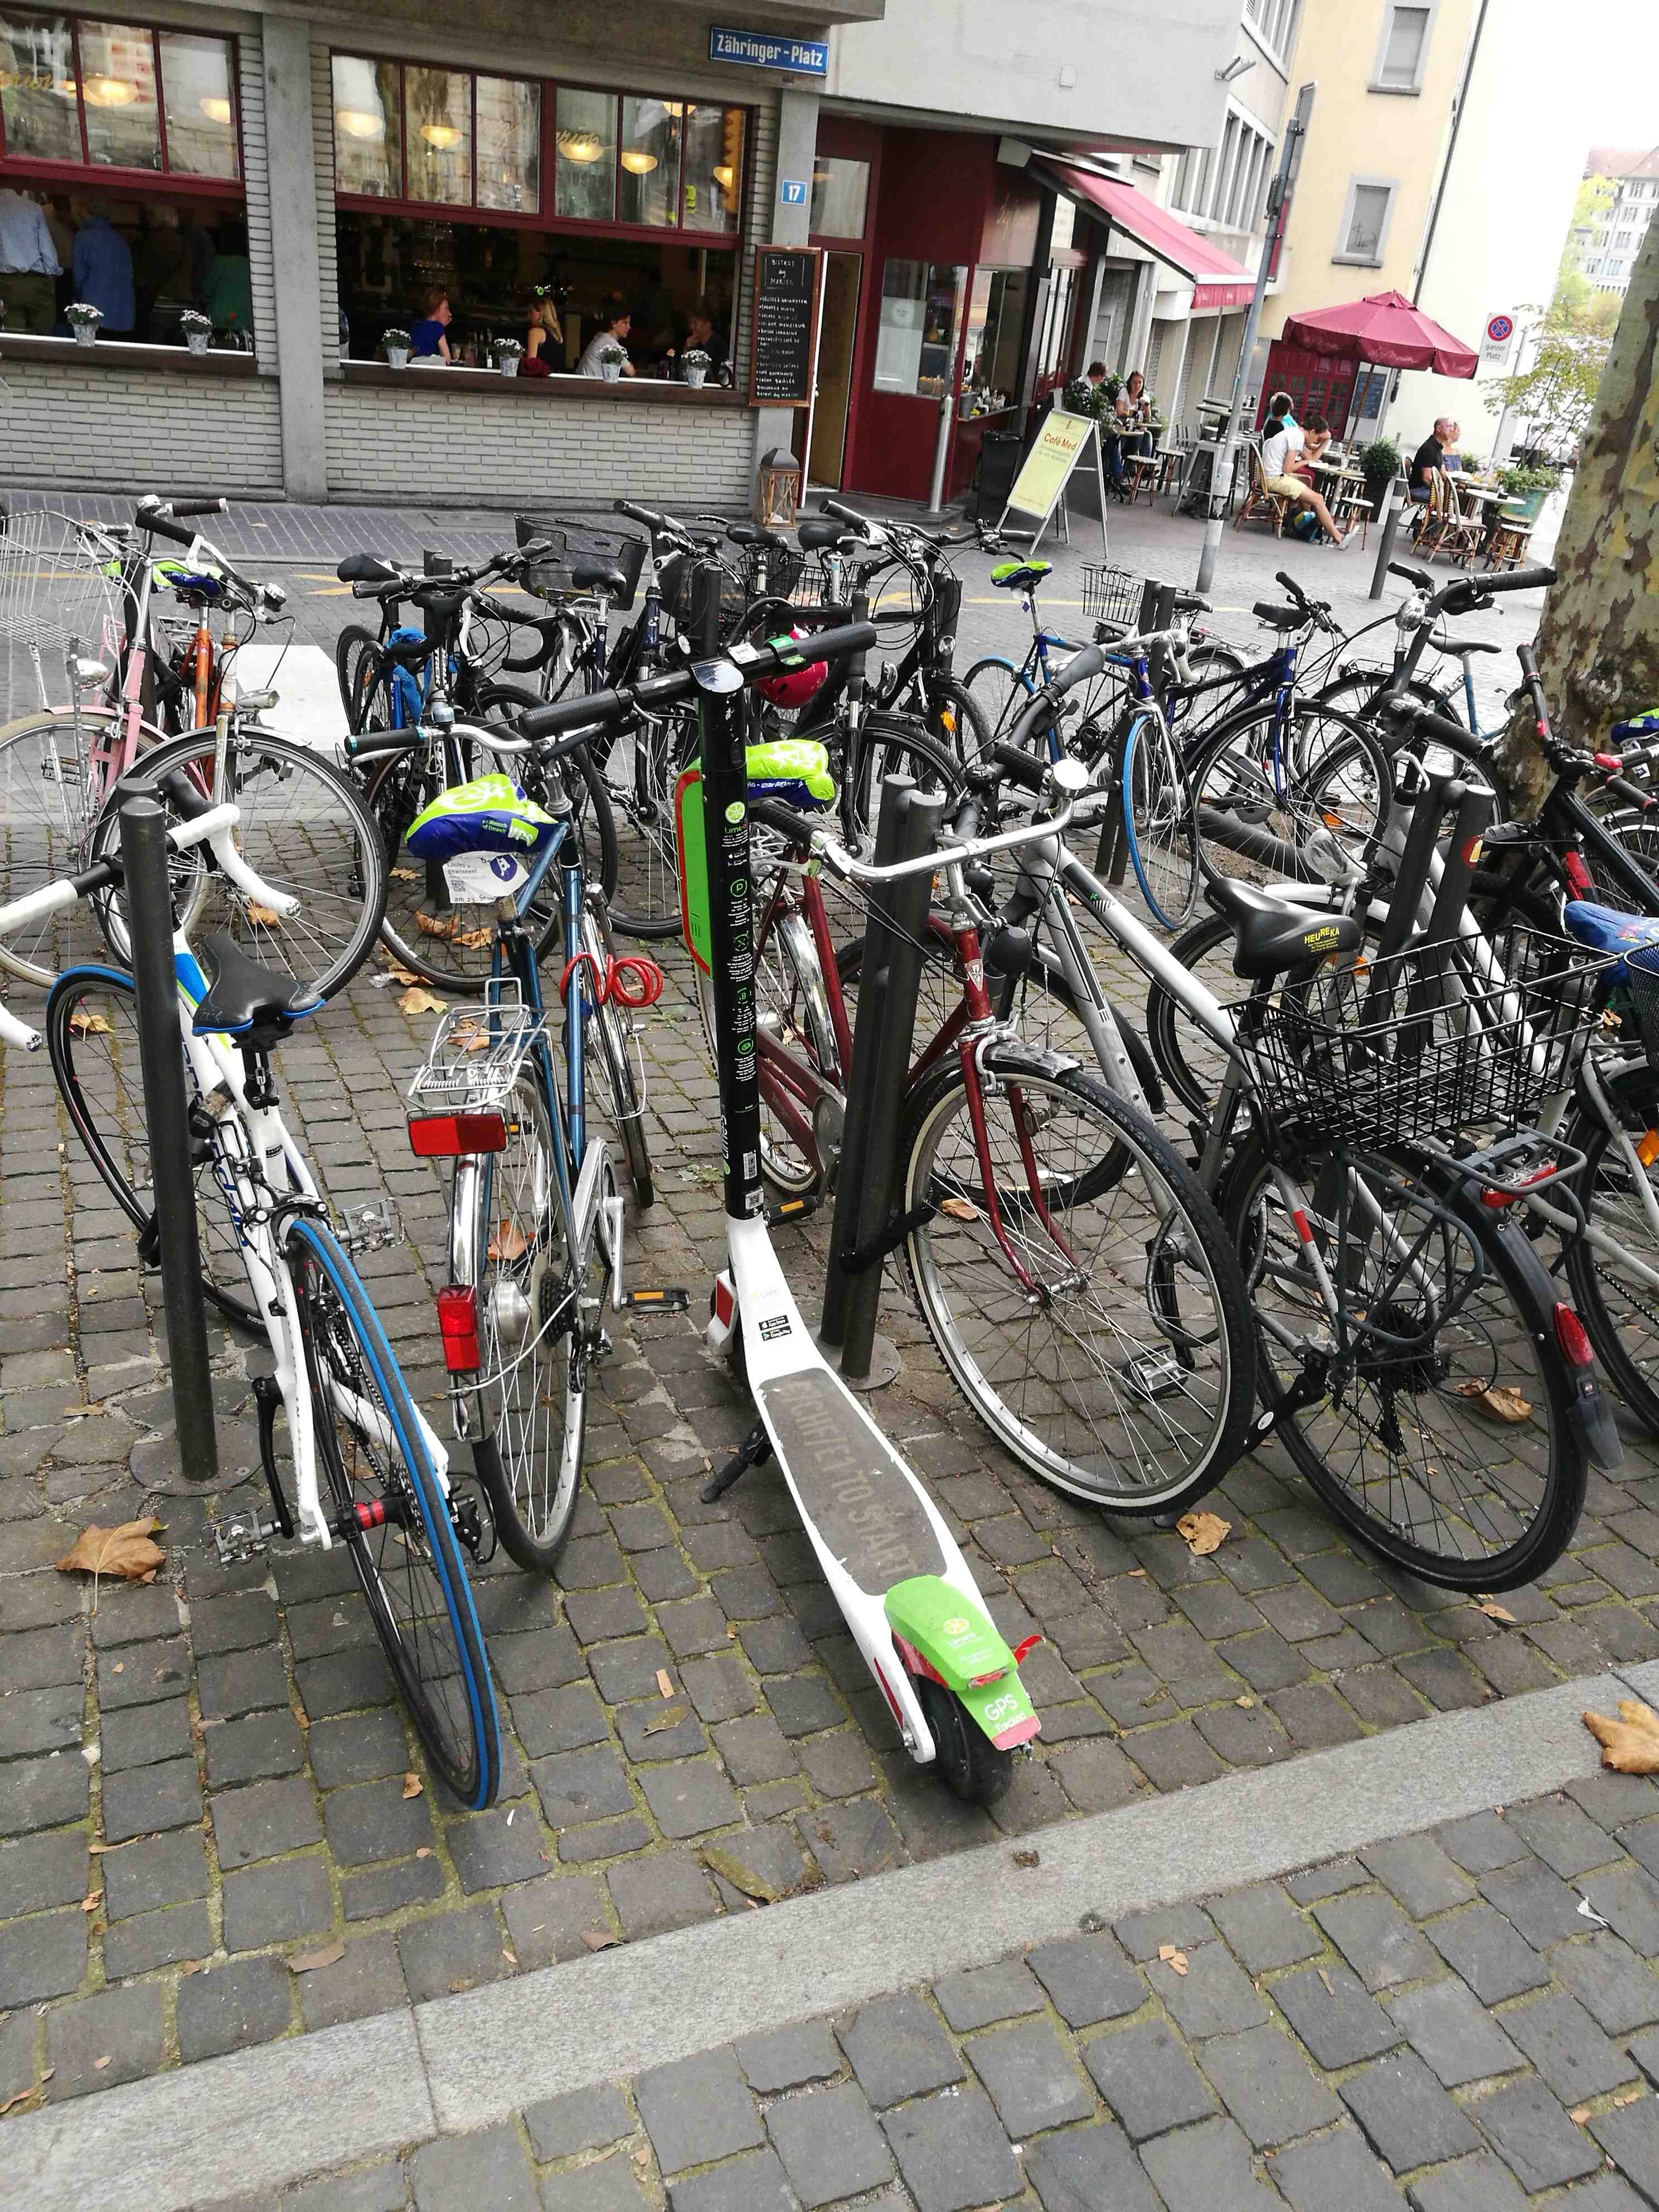scooter: (462, 590, 1080, 1867)
